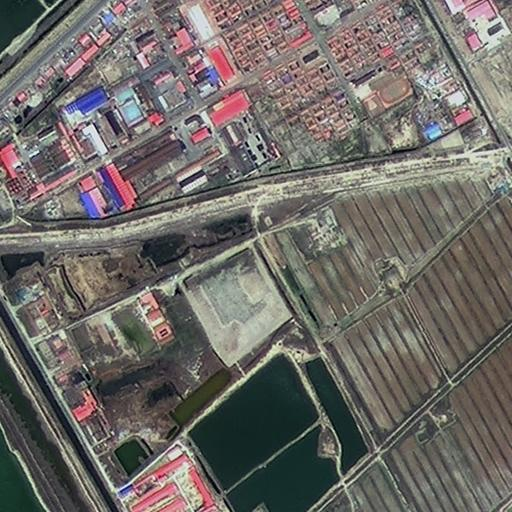school: (344, 56, 419, 119)
